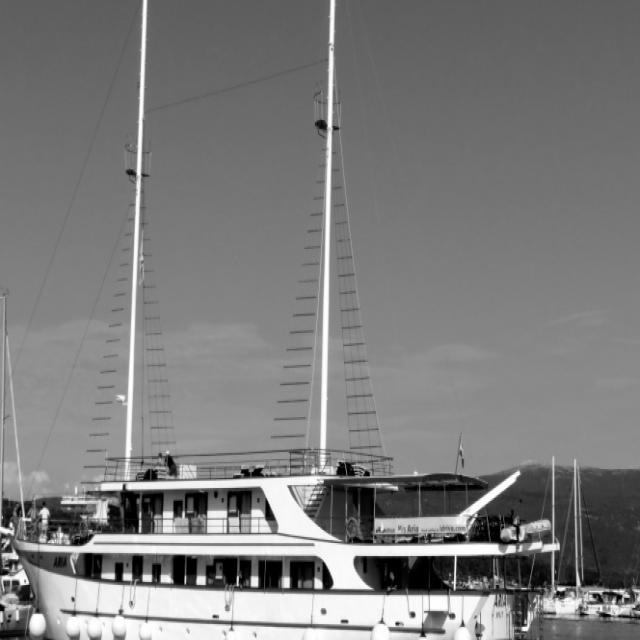cruises: (15, 444, 569, 640)
